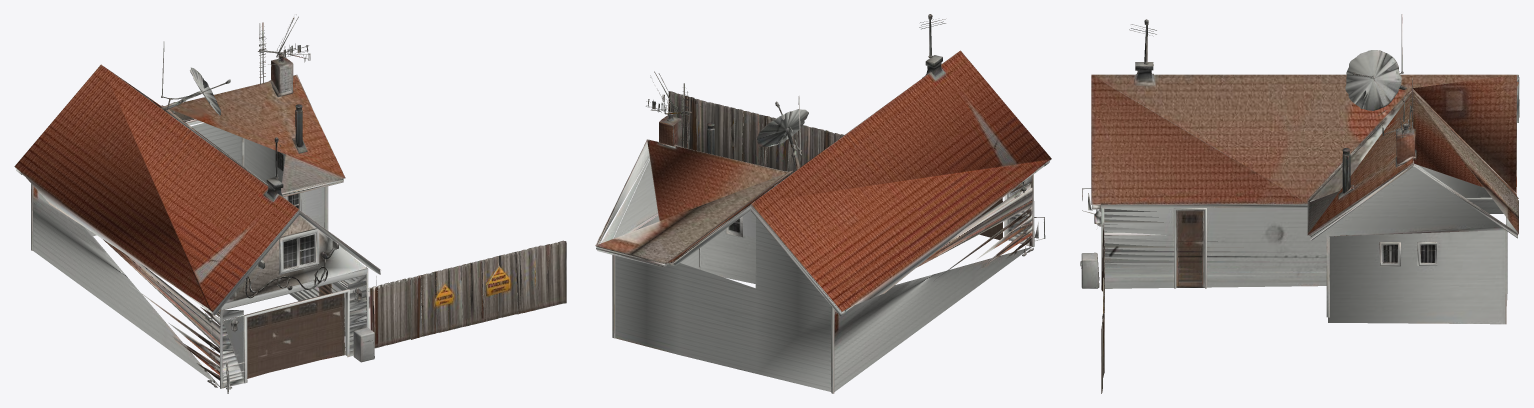
File: bld_ricks_house.glb
The picture shows the model from 3 angles, left to right: view 1: azimuth 30°, elevation 25°; view 2: azimuth 150°, elevation 25°; view 3: azimuth 270°, elevation 25°; orthographic projection. The views are drawn at different scales.
Size of the model in its own units: 0.9585 by 0.5723 by 0.9385.
Materials: 1 (1 with a texture image).
